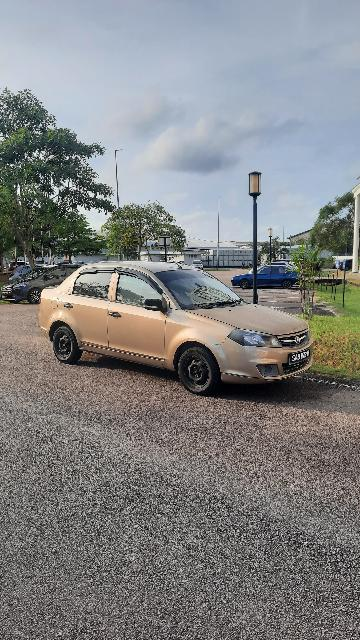License_Plate: (287, 347, 319, 368)
car: (32, 256, 320, 396)
